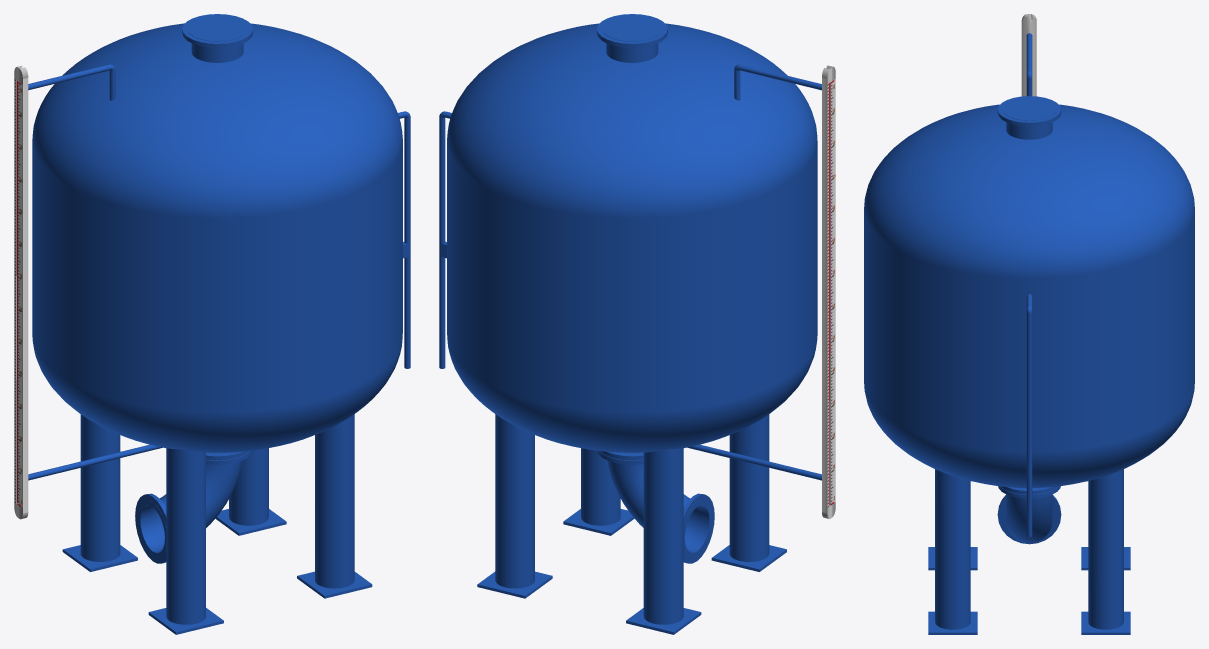
The model's file is 室外消除罐.glb.
3 views of the same model, side by side, from view 1: azimuth 30°, elevation 25°; view 2: azimuth 150°, elevation 25°; view 3: azimuth 270°, elevation 25° (orthographic). The views are drawn at different scales.
Visible parts, largest first — view 1: 罐体02.外层, 罐体02-其他, 罐体02-水尺条, 罐体02-水位线; view 2: 罐体02.外层, 罐体02-其他, 罐体02-水尺条, 罐体02-水位线; view 3: 罐体02.外层, 罐体02-其他, 罐体02-水尺条.
Part boxes in pixels (left/top/right/bottom): 罐体02.外层: left=32, top=14, right=402, bottom=464; 罐体02-其他: left=28, top=64, right=410, bottom=634; 罐体02-水尺条: left=14, top=65, right=28, bottom=519; 罐体02-水位线: left=16, top=80, right=17, bottom=502; 罐体02.外层: left=447, top=14, right=817, bottom=464; 罐体02-其他: left=439, top=64, right=821, bottom=634; 罐体02-水尺条: left=822, top=65, right=835, bottom=518; 罐体02-水位线: left=829, top=83, right=830, bottom=505; 罐体02.外层: left=864, top=96, right=1194, bottom=498; 罐体02-其他: left=928, top=33, right=1130, bottom=634; 罐体02-水尺条: left=1021, top=14, right=1036, bottom=96.
Bounding box in the file's own units: 3.7 × 4.96 × 3.02.
Materials: 4 (1 with a texture image).
